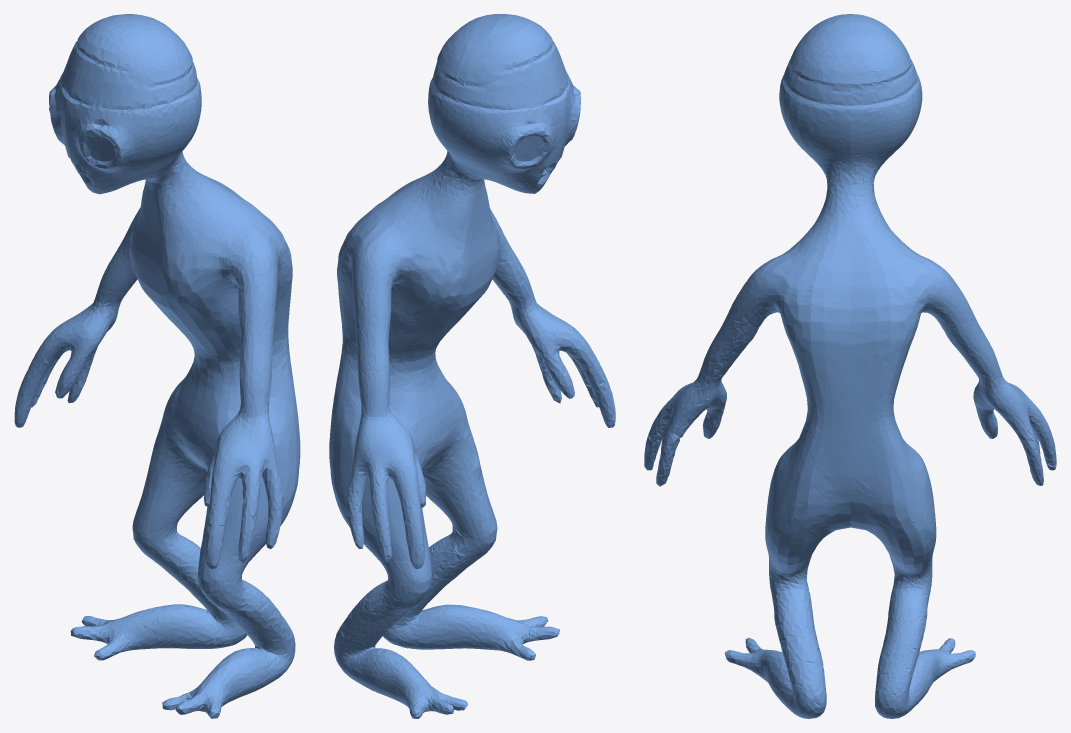
The model's file is animated_mesh.glb.
The picture shows the model from 3 angles, left to right: view 1: azimuth 30°, elevation 25°; view 2: azimuth 150°, elevation 25°; view 3: azimuth 270°, elevation 25°; orthographic projection. The views are drawn at different scales.
Visible parts, largest first — view 1: AnimatedMesh; view 2: AnimatedMesh; view 3: AnimatedMesh.
Part boxes in pixels (x1=…): AnimatedMesh: x1=14, y1=14, x2=300, y2=718; AnimatedMesh: x1=329, y1=14, x2=615, y2=718; AnimatedMesh: x1=644, y1=14, x2=1056, y2=718.
Bounding box in the file's own units: 0.6152 × 1.87 × 1.09.
